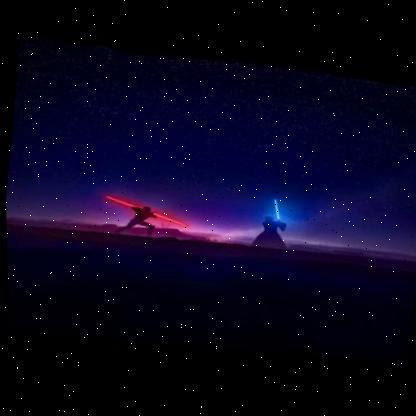lightsaber: (101, 191, 190, 232), (266, 194, 289, 232)
